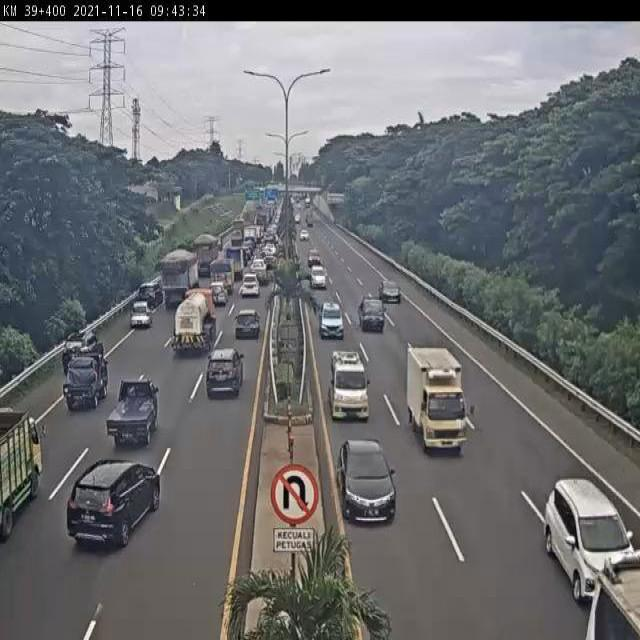car: (546, 474, 637, 602), (66, 461, 165, 551), (337, 440, 398, 527), (106, 380, 160, 447), (329, 350, 372, 422), (63, 352, 110, 412), (202, 350, 242, 402), (61, 328, 103, 375), (356, 295, 388, 336), (231, 309, 261, 344), (320, 304, 344, 340), (134, 281, 163, 307), (128, 303, 154, 332), (240, 274, 262, 302), (208, 281, 229, 308), (380, 278, 401, 302)
small truck: (406, 346, 471, 454)
truck-m-: (168, 289, 217, 360), (159, 249, 200, 311)
